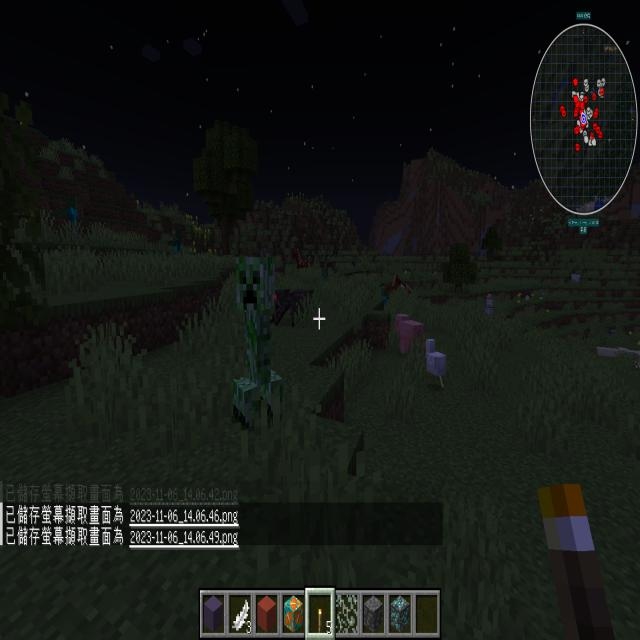Creeper: (222, 247, 292, 432)
Spider: (270, 287, 319, 329), (331, 248, 340, 255)
Zombie: (54, 190, 82, 256), (165, 225, 188, 256), (316, 264, 331, 286), (378, 280, 390, 307), (353, 253, 358, 268)
chicken: (420, 335, 453, 398)
pig: (393, 310, 426, 363)
